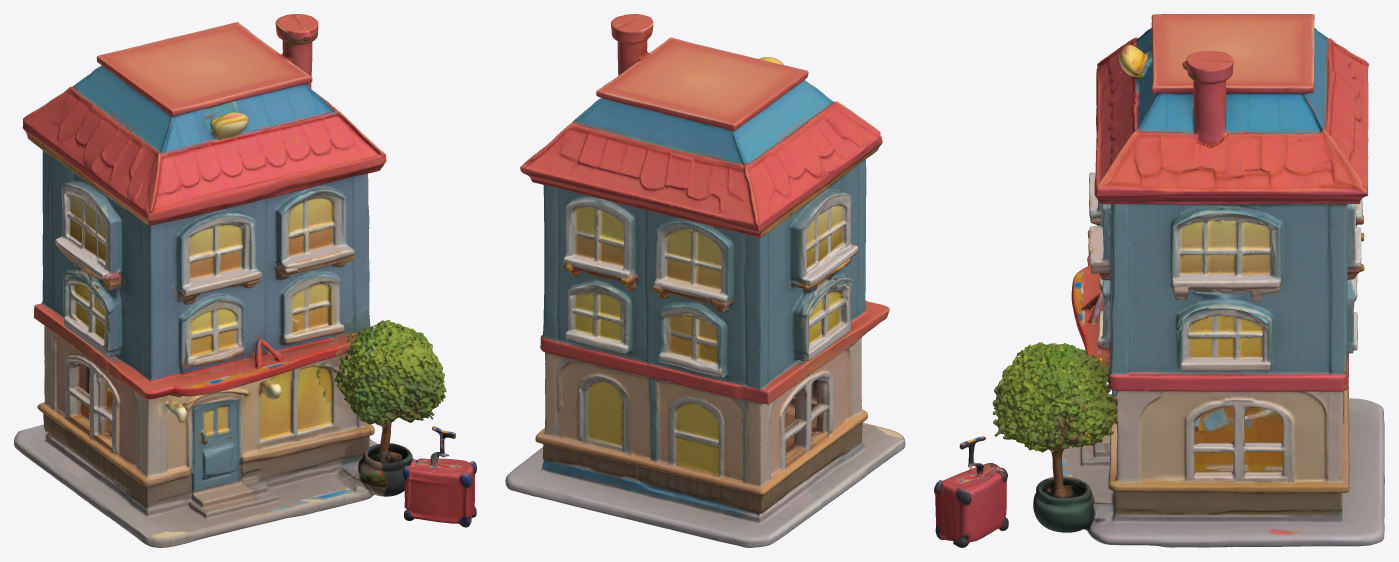
Rendered from hotel.glb.
3 renders of one model, left to right at view 1: azimuth 30°, elevation 25°; view 2: azimuth 150°, elevation 25°; view 3: azimuth 270°, elevation 25°, orthographic. The views are drawn at different scales.
Bounding box in the file's own units: 45674 × 65623 × 58565.
Materials: 1 (1 with a texture image).
